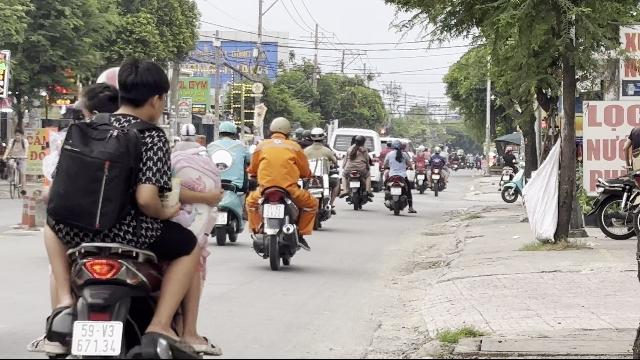helmet: (268, 116, 290, 138), (217, 120, 237, 138)
licenseplate: (72, 322, 120, 354), (264, 204, 284, 218)
motorcyclist: (31, 59, 223, 356), (245, 115, 317, 268), (204, 119, 252, 245)
nohelmet: (114, 60, 170, 122), (76, 80, 120, 124)
